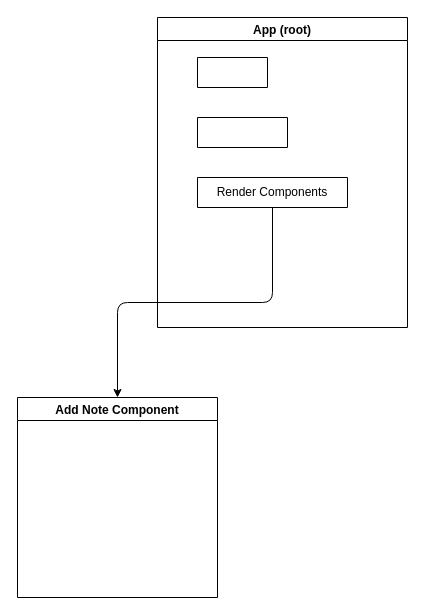
Some shapes in this 425 by 615 pixel diagram are drawn without their labels. Here are the shapes that lost their labels. From the top down, the centre of each, then its label:
At point (232, 72): "states".
At point (242, 132): "Functions".
